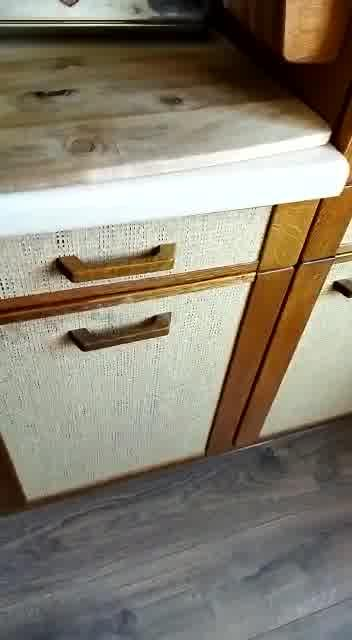cabinet_door: (0, 292, 249, 493), (0, 214, 333, 289)
handle: (53, 238, 182, 286), (63, 307, 174, 358)
